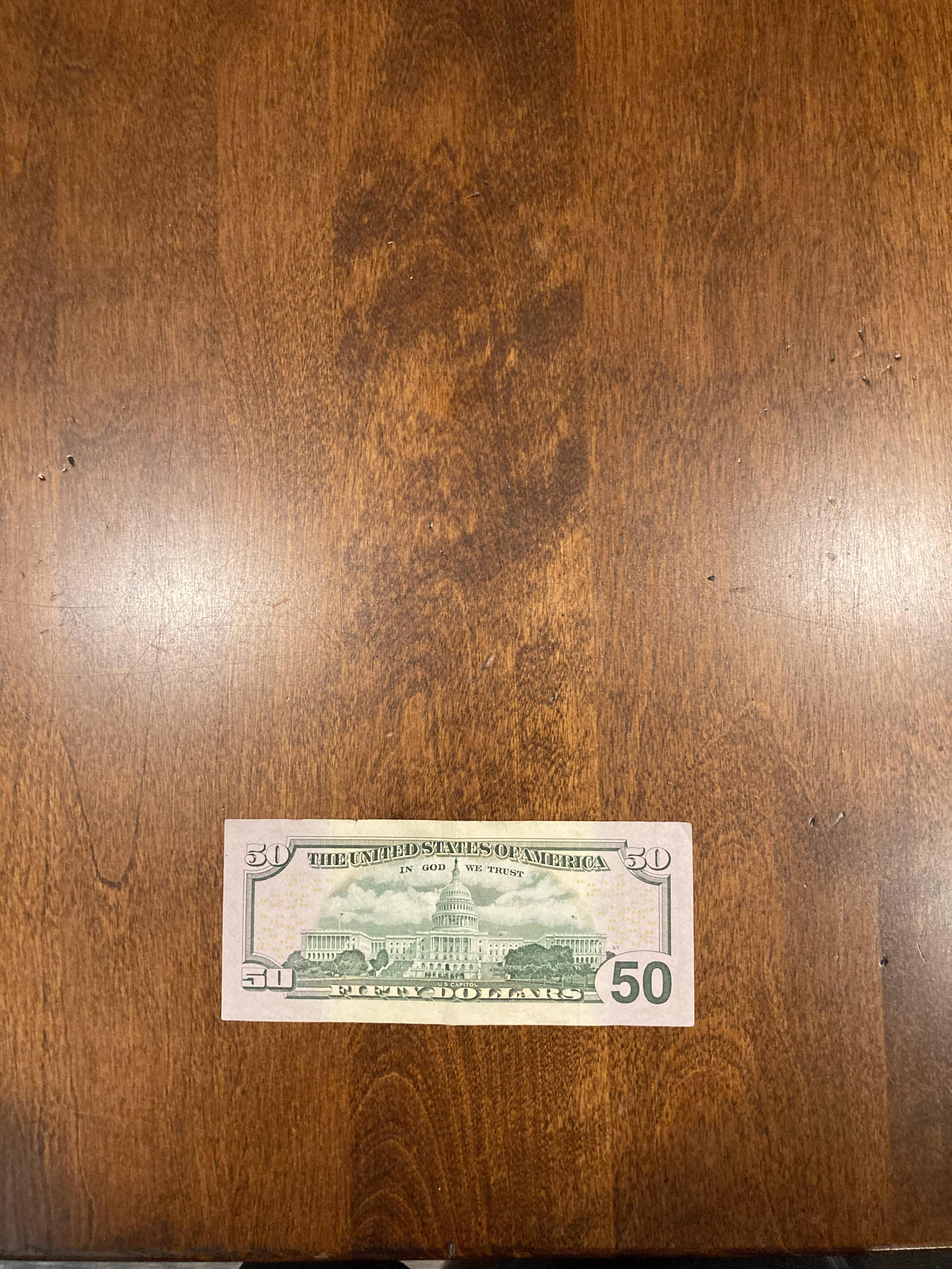fifty-back: (221, 818, 698, 1027)
